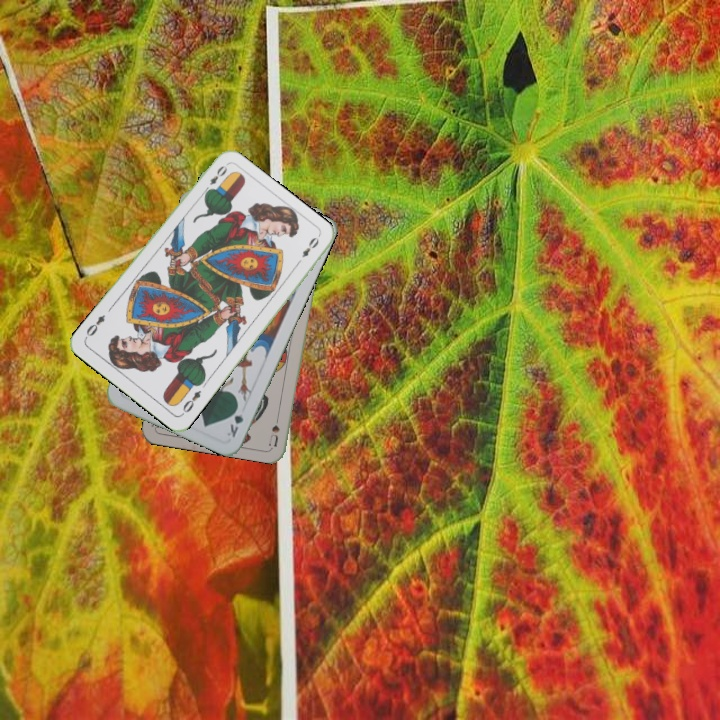EO: (200, 161, 230, 196), (178, 386, 204, 418)
GK: (223, 401, 246, 440)
SU: (265, 407, 282, 448)
